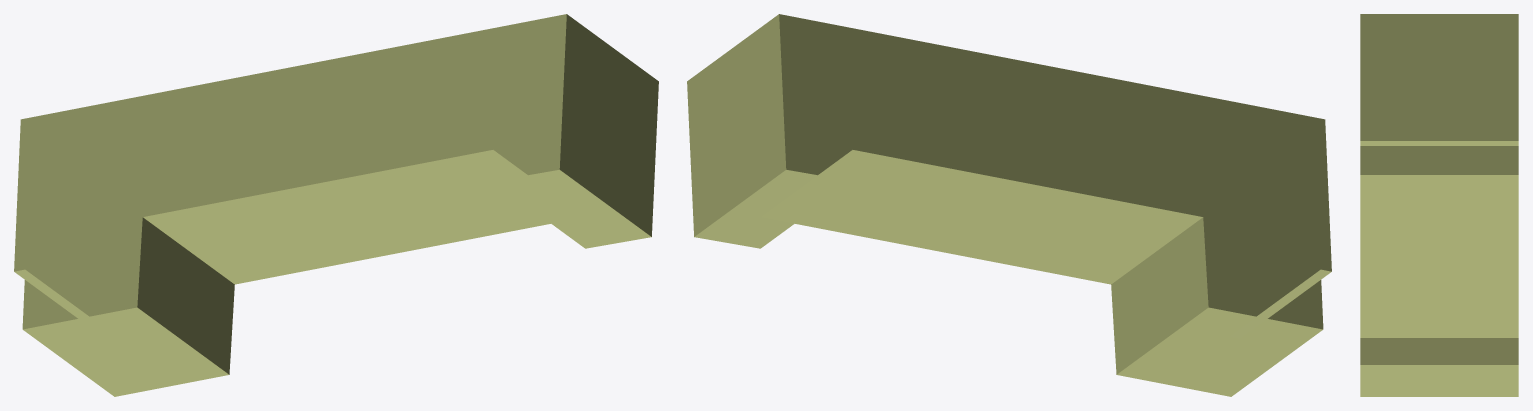
3 views of the same model, side by side, from view 1: azimuth 30°, elevation 25°; view 2: azimuth 150°, elevation 25°; view 3: azimuth 270°, elevation 25° (orthographic). The views are drawn at different scales.
Visible parts, largest first — view 1: 0_0_3_1_2_0_1_2_1; view 2: 0_0_3_1_2_0_1_2_1; view 3: 0_0_3_1_2_0_1_2_1.
Boxes of the visible parts, <box> form: 0_0_3_1_2_0_1_2_1: <box>14,14,658,396</box>; 0_0_3_1_2_0_1_2_1: <box>687,14,1331,396</box>; 0_0_3_1_2_0_1_2_1: <box>1360,14,1518,396</box>.
Bounding box in the file's own units: 31.18 × 11.67 × 9.
